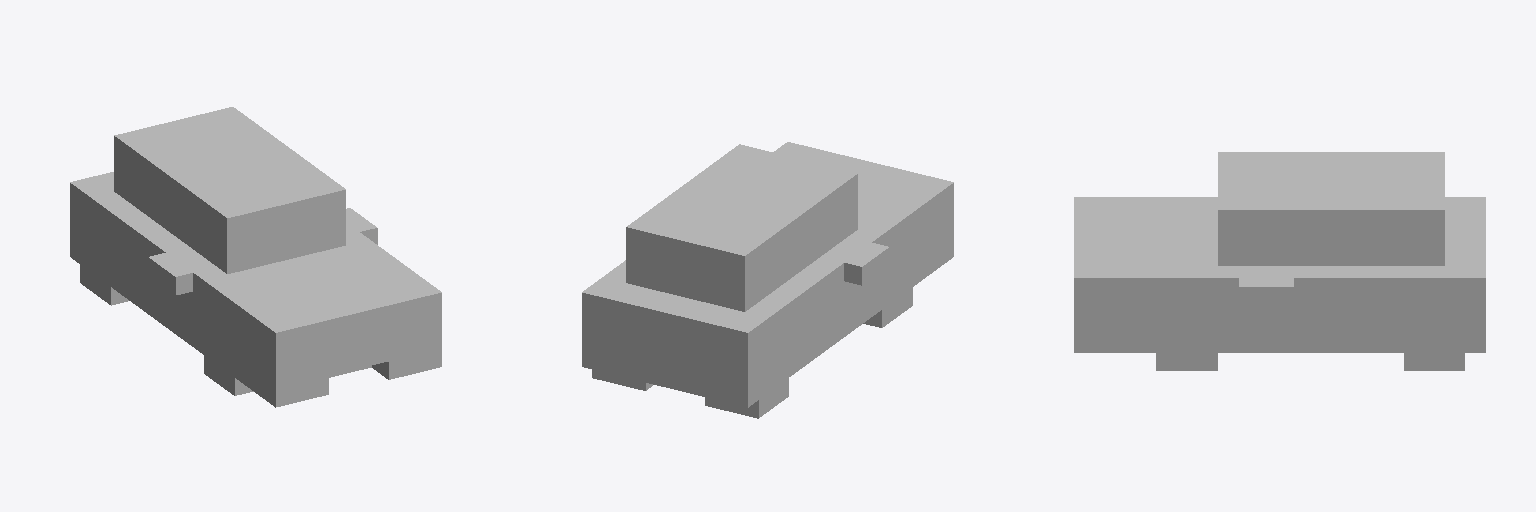
File: car2.obj
3 renders of one model, left to right at view 1: azimuth 30°, elevation 25°; view 2: azimuth 150°, elevation 25°; view 3: azimuth 270°, elevation 25°, orthographic.
Parts seen in each view (by area): view 1: object 1; view 2: object 1; view 3: object 1.
Part boxes in pixels (left/top/right/bottom): object 1: left=70, top=107, right=441, bottom=407; object 1: left=582, top=142, right=953, bottom=418; object 1: left=1074, top=152, right=1485, bottom=370.
Bounding box in the file's own units: 3.4 × 2.4 × 6.